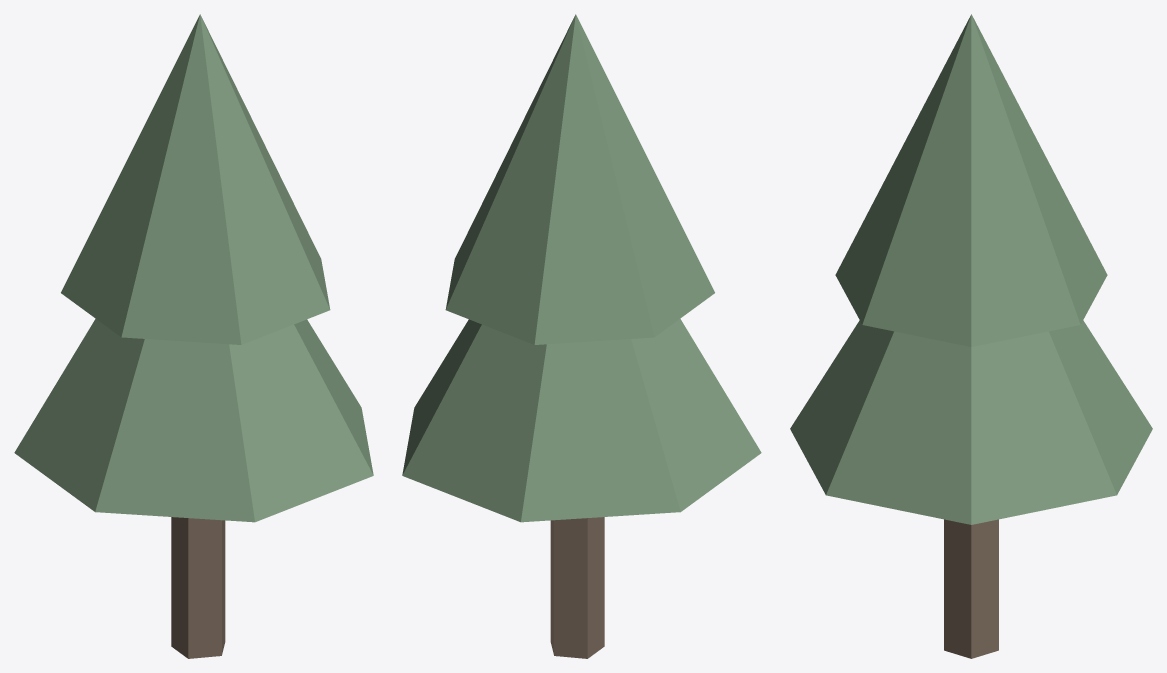
File: tree_conifer.glb
The picture shows the model from 3 angles, left to right: view 1: azimuth 30°, elevation 25°; view 2: azimuth 150°, elevation 25°; view 3: azimuth 270°, elevation 25°; orthographic projection.
Parts seen in each view (by area): view 1: tree_conifer; view 2: tree_conifer; view 3: tree_conifer.
Boxes of the visible parts, x1,y1,x2,y2 form: tree_conifer: (14, 14, 373, 658); tree_conifer: (402, 14, 761, 658); tree_conifer: (790, 14, 1152, 658).
Size of the model in its own units: 0.6083 by 1.2 by 0.624.
